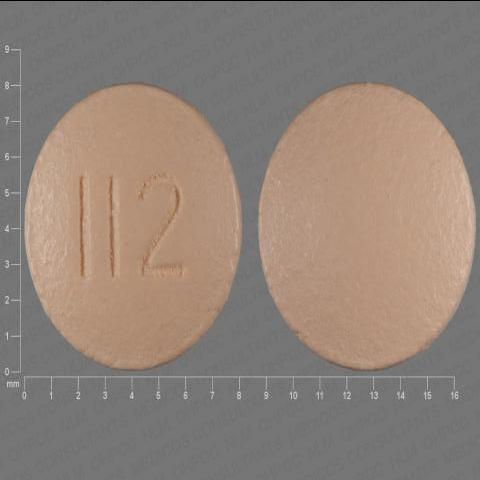Pill: (254, 42, 480, 390), (18, 64, 252, 374)
